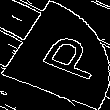P_NW: (14, 27, 96, 83)
